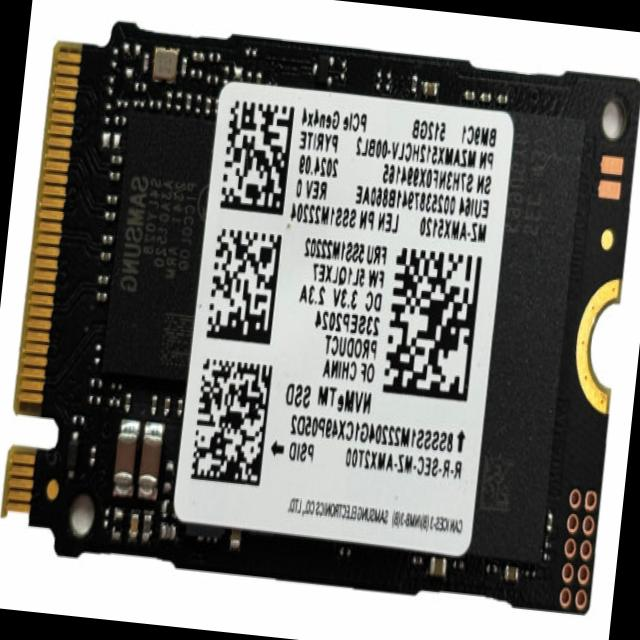ssd: (0, 4, 640, 618)
